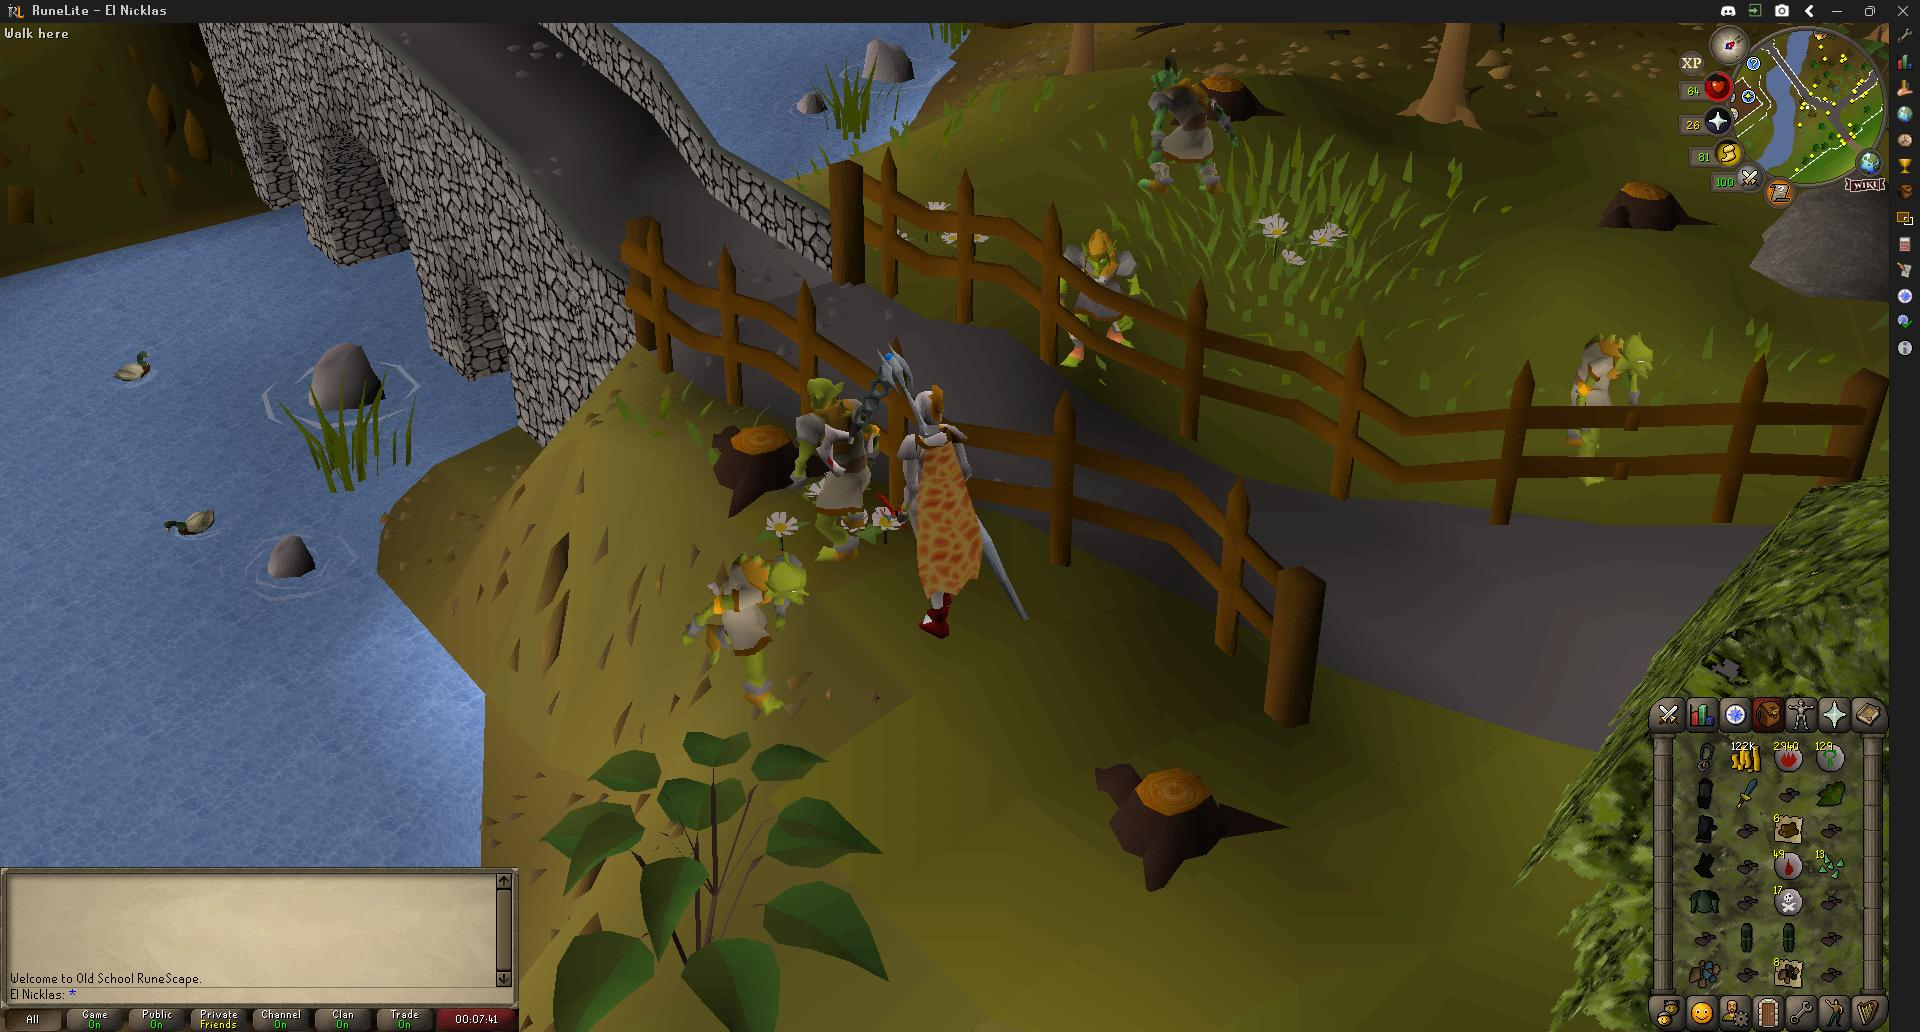Player: (889, 378, 990, 639)
goblin: (694, 542, 806, 687), (790, 384, 880, 558), (1139, 53, 1236, 197), (1061, 228, 1134, 366), (1570, 332, 1623, 416)
